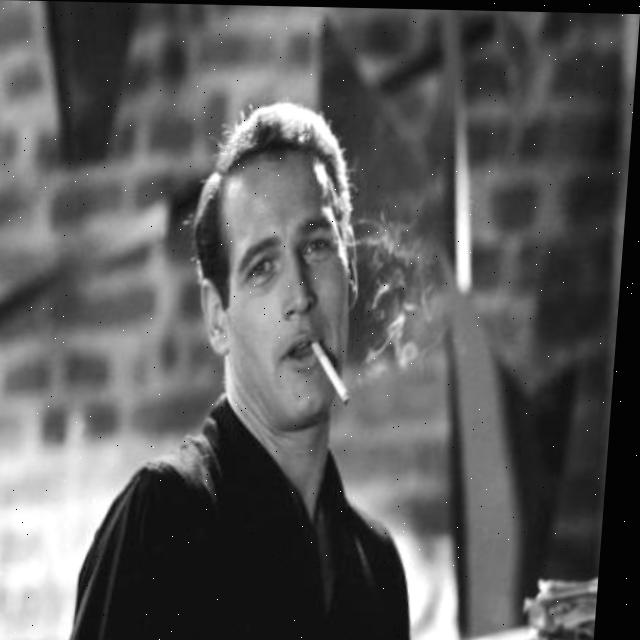cigarette: (310, 338, 364, 405)
